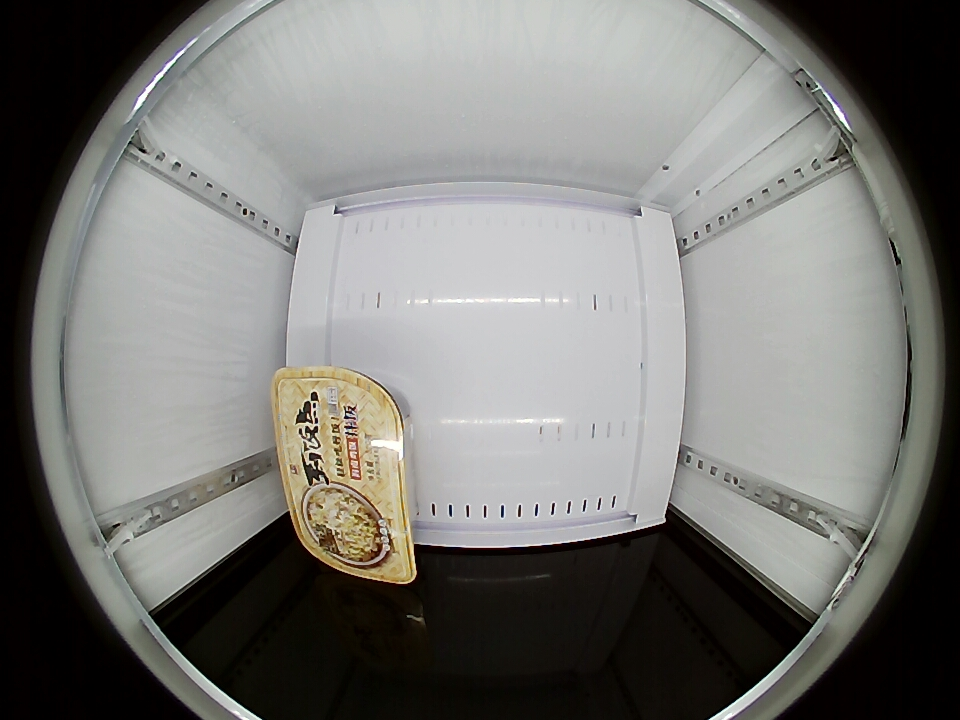daofandian1: (273, 366, 415, 584)
